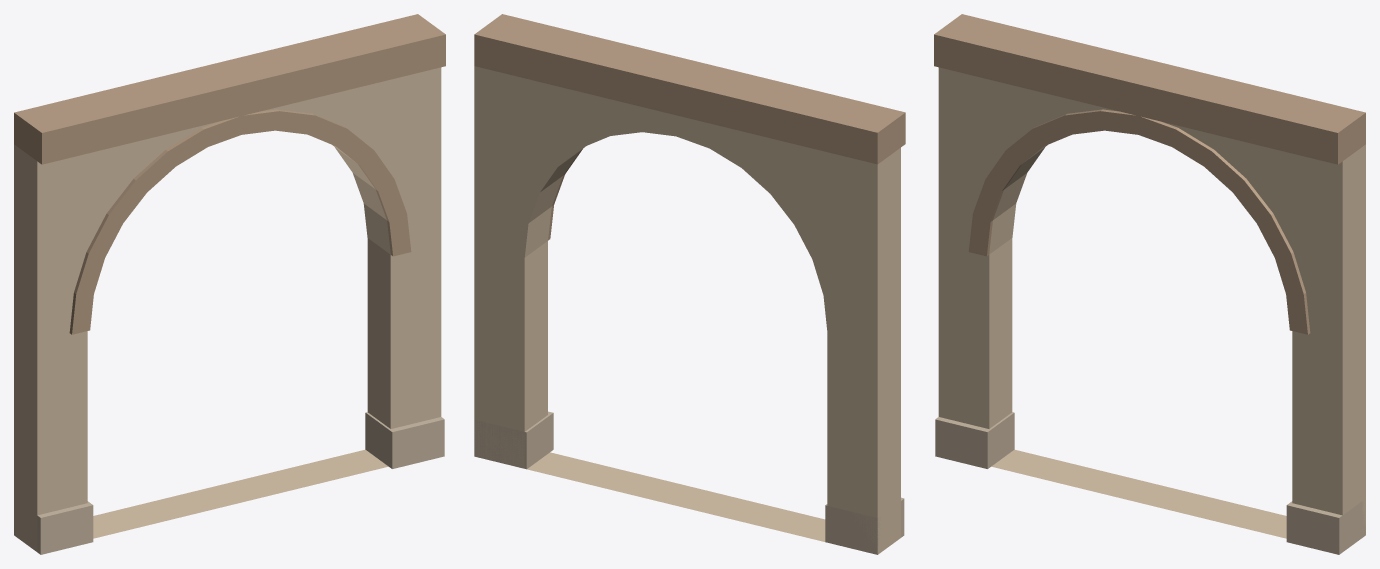
The model's file is city_facade_arcade.glb.
3 views of the same model, side by side, from view 1: azimuth 30°, elevation 25°; view 2: azimuth 150°, elevation 25°; view 3: azimuth 330°, elevation 25° (orthographic).
Visible parts, largest first — view 1: CityFacadeArcade_Wall, CityFacadeArcade_Band, CityFacadeArcade_Archivolt, CityFacadeArcade_Plinth.001, CityFacadeArcade_Plinth; view 2: CityFacadeArcade_Wall, CityFacadeArcade_Band, CityFacadeArcade_Plinth.001, CityFacadeArcade_Plinth; view 3: CityFacadeArcade_Wall, CityFacadeArcade_Band, CityFacadeArcade_Archivolt, CityFacadeArcade_Plinth, CityFacadeArcade_Plinth.001.
Part boxes in pixels (x1=…): CityFacadeArcade_Wall: x1=14, y1=67, x2=441, y2=551; CityFacadeArcade_Band: x1=14, y1=14, x2=445, y2=164; CityFacadeArcade_Archivolt: x1=69, y1=109, x2=411, y2=334; CityFacadeArcade_Plinth.001: x1=365, y1=412, x2=444, y2=468; CityFacadeArcade_Plinth: x1=14, y1=501, x2=93, y2=554; CityFacadeArcade_Wall: x1=474, y1=66, x2=900, y2=553; CityFacadeArcade_Band: x1=474, y1=14, x2=905, y2=164; CityFacadeArcade_Plinth.001: x1=474, y1=411, x2=553, y2=469; CityFacadeArcade_Plinth: x1=825, y1=497, x2=904, y2=554; CityFacadeArcade_Wall: x1=938, y1=67, x2=1365, y2=538; CityFacadeArcade_Band: x1=934, y1=14, x2=1365, y2=164; CityFacadeArcade_Archivolt: x1=968, y1=109, x2=1310, y2=334; CityFacadeArcade_Plinth: x1=935, y1=412, x2=1014, y2=468; CityFacadeArcade_Plinth.001: x1=1286, y1=500, x2=1365, y2=554.
Size of the model in its own units: 4 by 4 by 0.48.
